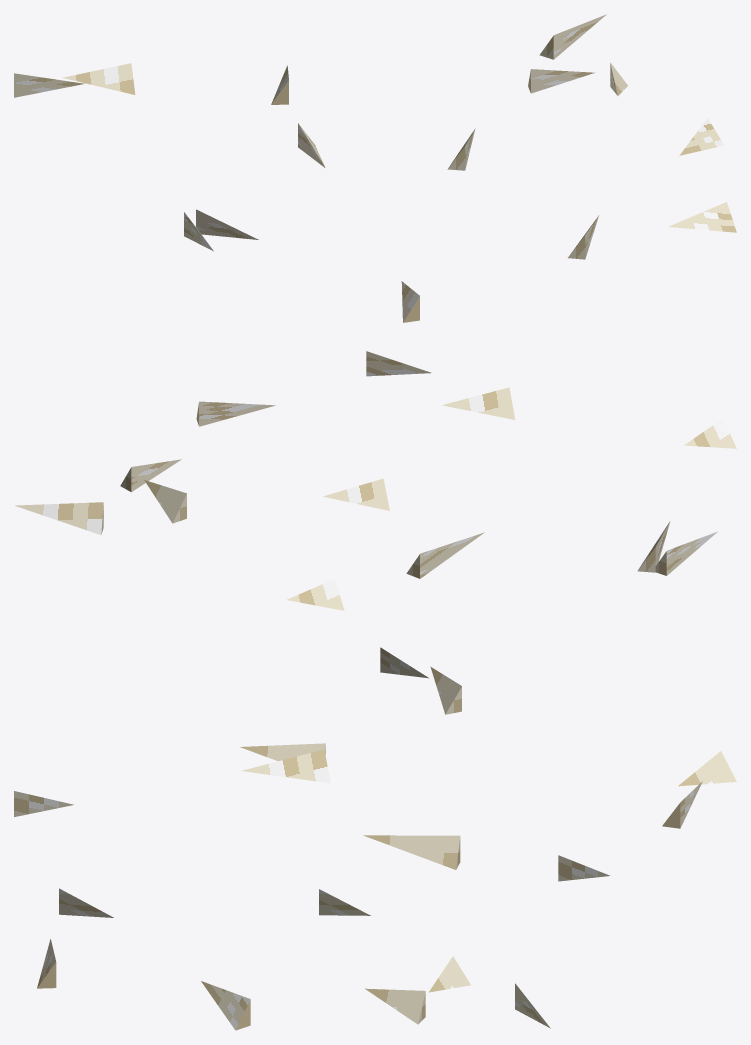
The model's file is tr_teeth.glb.
The picture shows the model from 3 angles, top to bottom: view 1: azimuth 30°, elevation 25°; view 2: azimuth 150°, elevation 25°; view 3: azimuth 270°, elevation 25°; orthographic projection. The views are drawn at different scales.
Visible parts, largest first — view 1: block_tooth (×8); view 2: block_tooth (×13); view 3: block_tooth (×14).
Boxes of the visible parts, x1,y1,x2,y2 form: block_tooth (×8): (14, 14, 736, 322); block_tooth (×13): (15, 351, 736, 714); block_tooth (×14): (14, 743, 736, 1030).
Size of the model in its own units: 0.6872 by 0.03 by 0.7453.
Materials: 1 (1 with a texture image).
